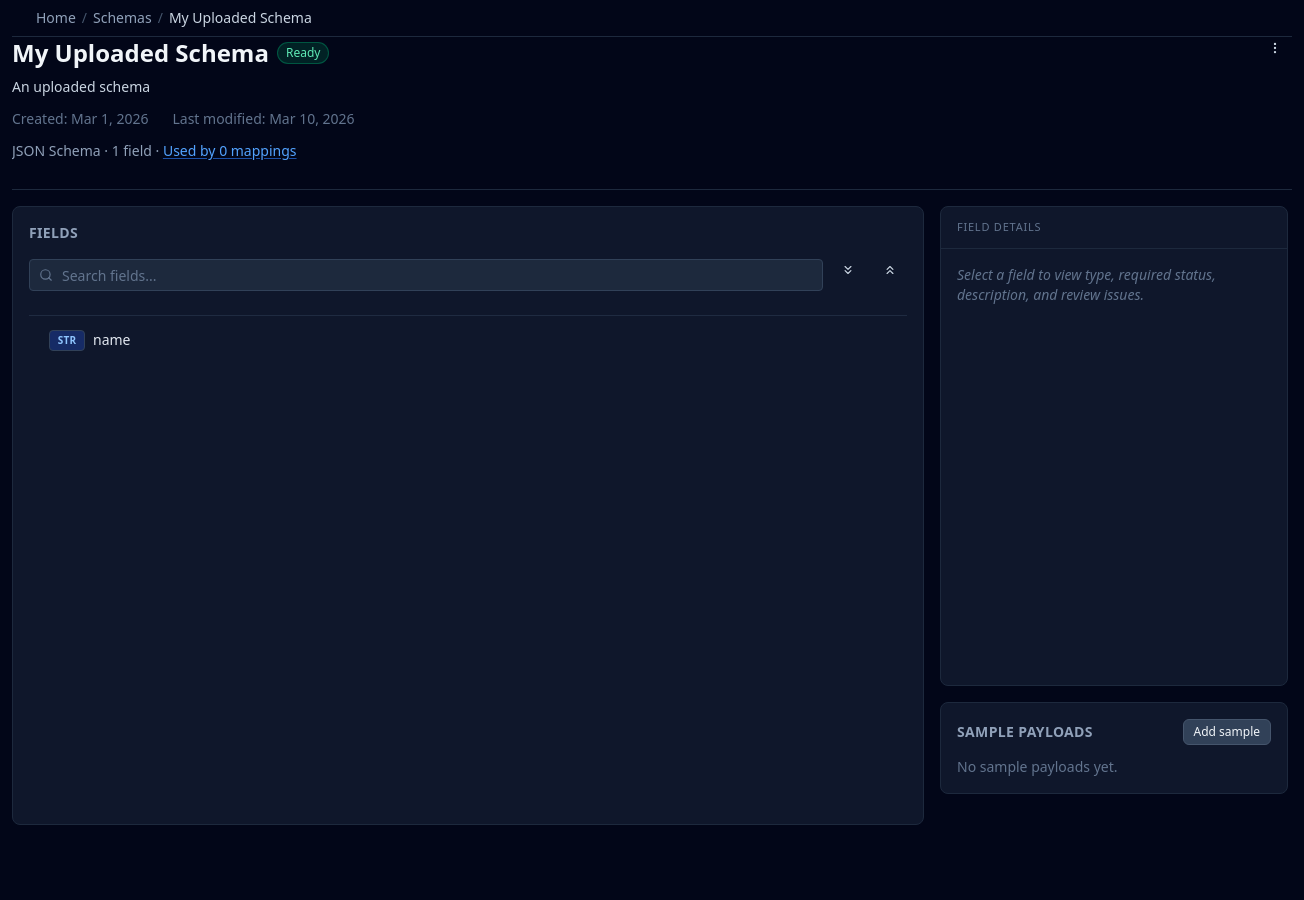
Scenario: SchemaDetailPage › cancel exits field details edit mode and restores read-only details
Expected: the element with test id "schema-detail-tree" is shown, [12,206,924,825]
Click the list item "STR name": click(67, 340) [49,330,130,350]
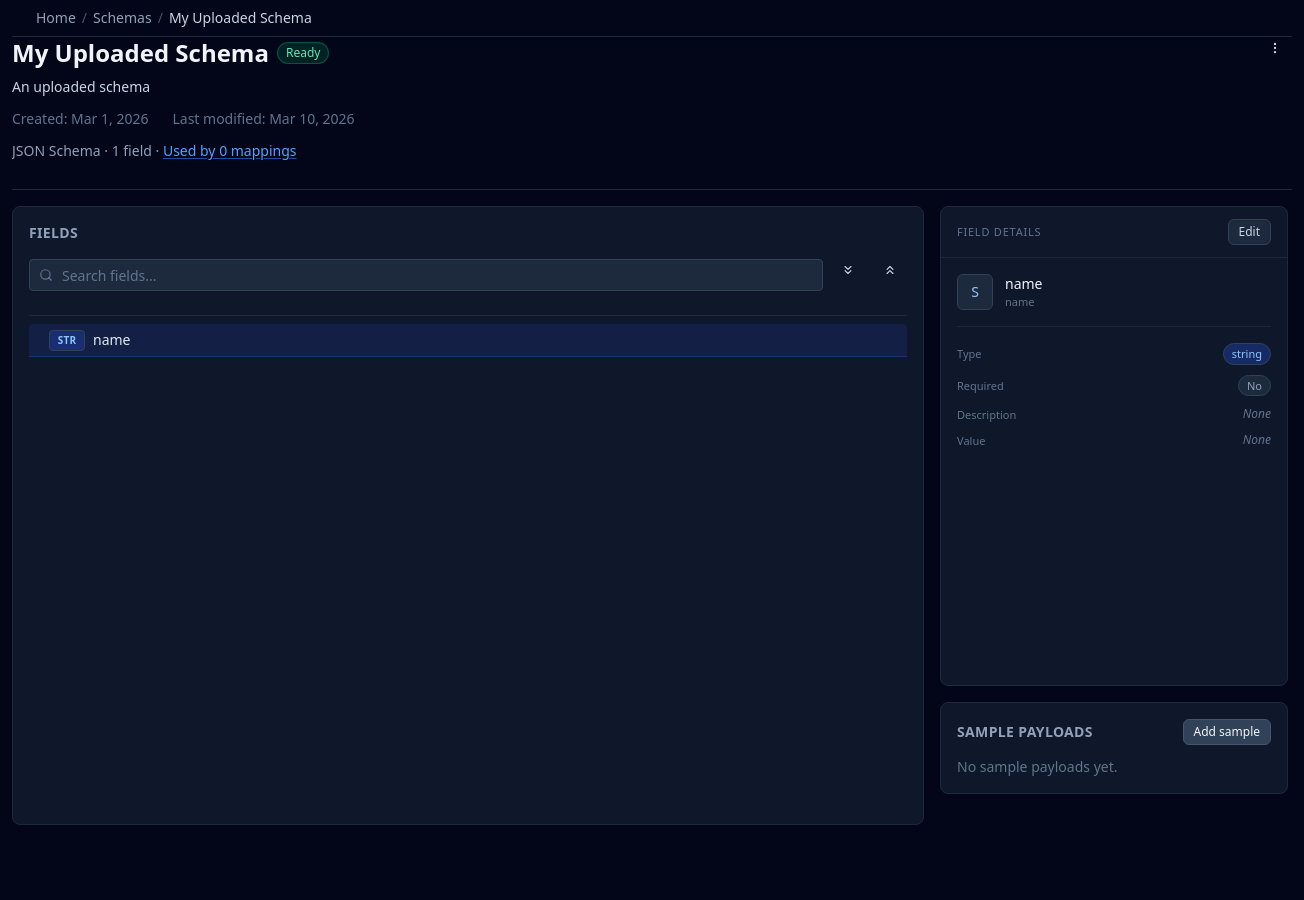
Click the button with test id "field-details-edit-button": click(1249, 232) [1228,219,1271,245]
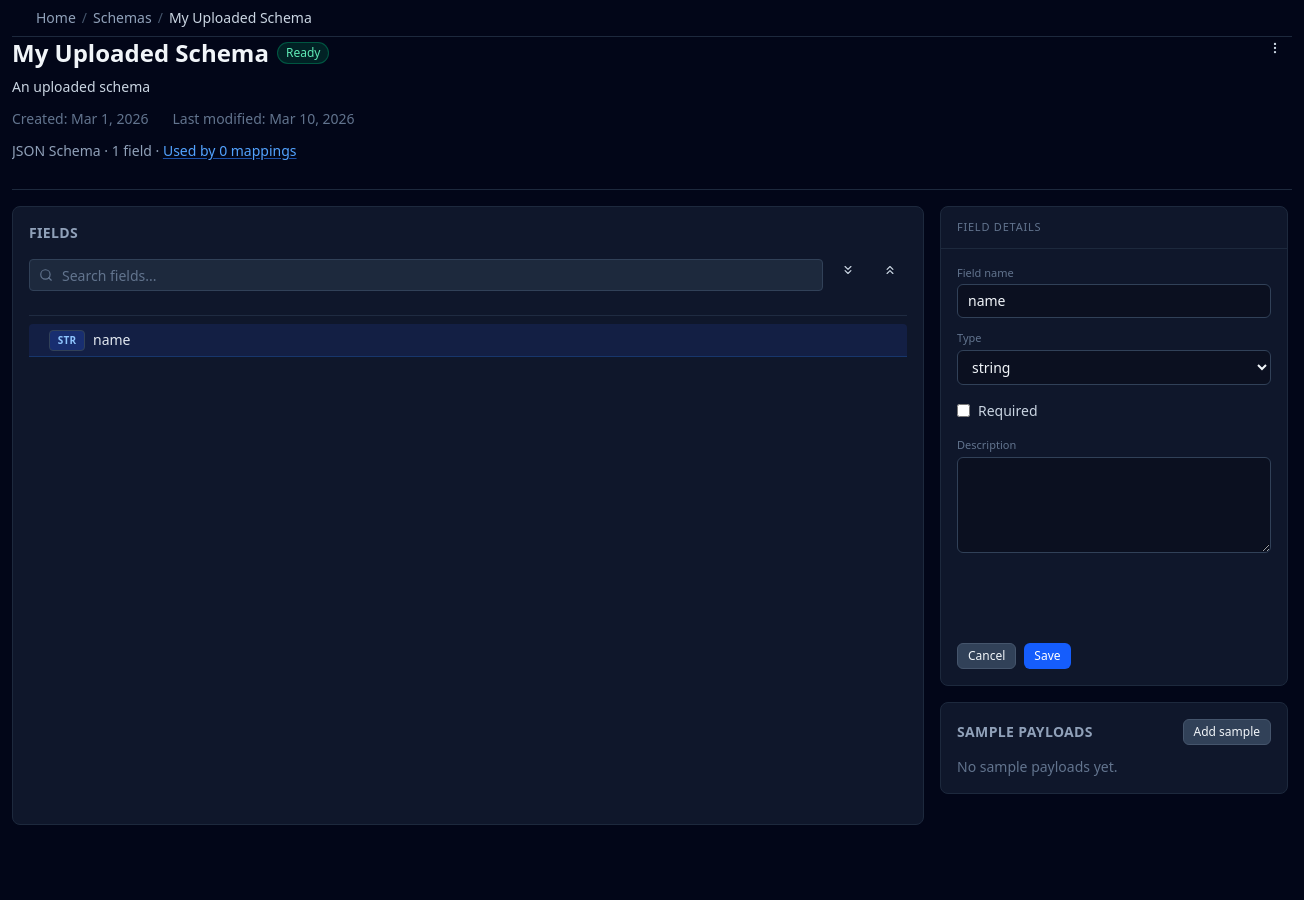
Now the element with test id "field-details-edit-form" is shown, box [957,264,1271,669]
Click the button with test id "field-details-cancel-button": click(987, 656) [957,643,1016,669]
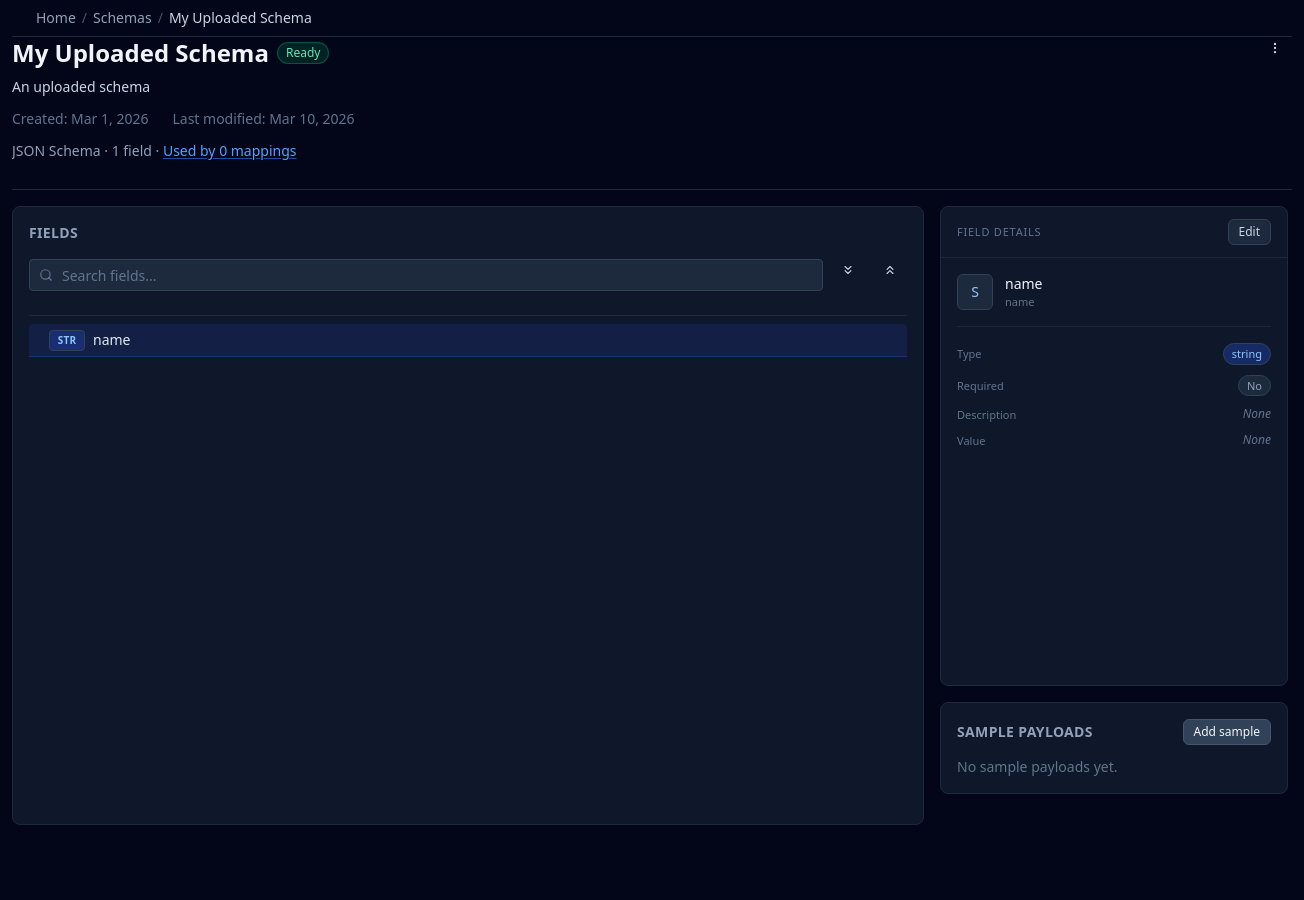
Now the text with test id "field-details-name" is shown, box [1005,274,1042,294]
